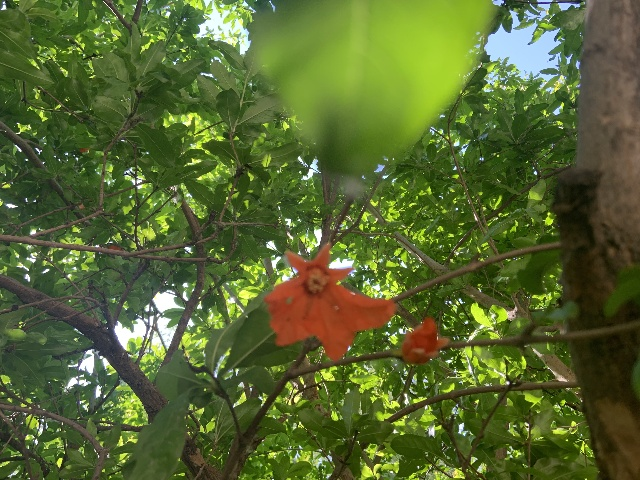flower: (264, 243, 397, 362), (400, 316, 450, 365)
